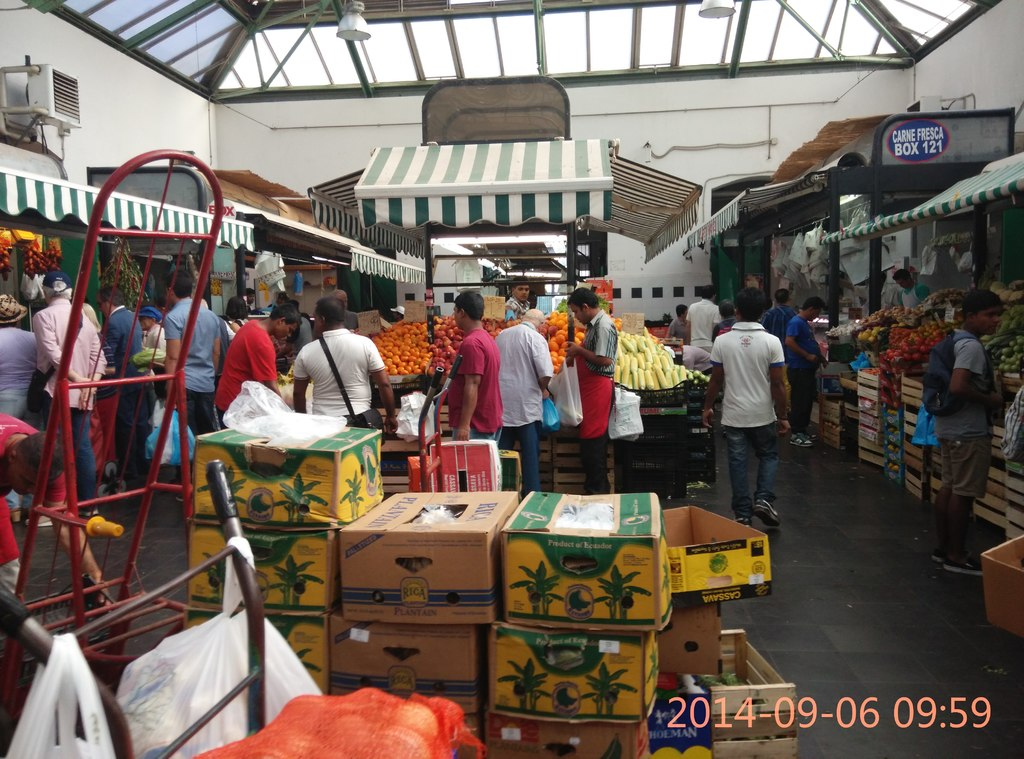Person: (0, 267, 1024, 611)
